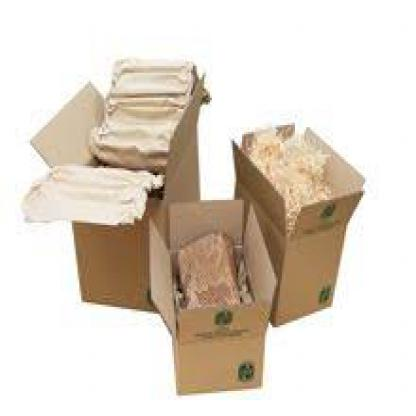CARDBOARD: (28, 54, 210, 314), (229, 123, 361, 327), (146, 198, 276, 393)
